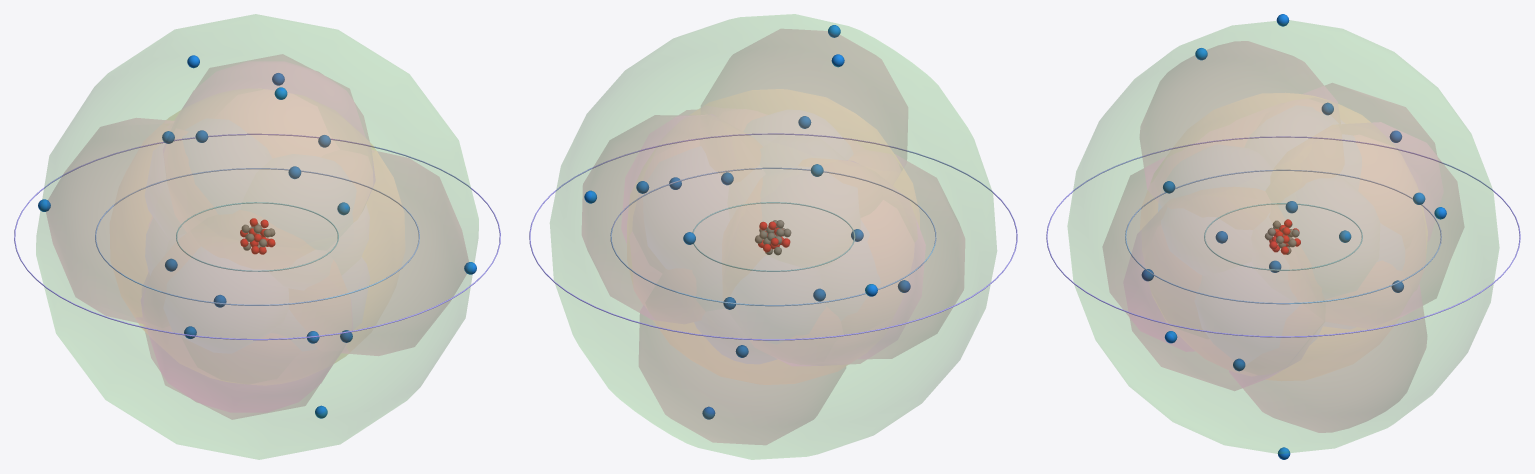
3 renders of one model, left to right at view 1: azimuth 30°, elevation 25°; view 2: azimuth 150°, elevation 25°; view 3: azimuth 270°, elevation 25°, orthographic. The views are drawn at different scales.
Parts seen in each view (by area): view 1: Orbital_3s_0, Orbital_3p_0, Orbital_2s_0, Orbital_3p_1, Orbital_3p_2, Nivel_n3, Nivel_n2, Nivel_n1; view 2: Orbital_3s_0, Orbital_3p_2, Orbital_3p_1, Orbital_2s_0, Orbital_3p_0, Nivel_n3, Nivel_n2, Nivel_n1; view 3: Orbital_3s_0, Orbital_3p_2, Orbital_3p_1, Orbital_3p_0, Orbital_2s_0, Nivel_n3, Nivel_n2, Nivel_n1.
Part boxes in pixels (<box>): Orbital_3s_0: <box>36,14,478,459</box>; Orbital_3p_0: <box>46,118,468,355</box>; Orbital_2s_0: <box>110,111,404,382</box>; Orbital_3p_1: <box>141,54,352,419</box>; Orbital_3p_2: <box>146,62,374,401</box>; Nivel_n3: <box>14,133,500,340</box>; Nivel_n2: <box>95,168,419,305</box>; Nivel_n1: <box>176,202,338,271</box>; Orbital_3s_0: <box>550,14,996,459</box>; Orbital_3p_2: <box>639,29,907,444</box>; Orbital_3p_1: <box>582,115,964,358</box>; Orbital_2s_0: <box>627,89,919,384</box>; Orbital_3p_0: <box>680,110,925,365</box>; Nivel_n3: <box>529,133,1017,340</box>; Nivel_n2: <box>610,167,936,306</box>; Nivel_n1: <box>692,202,855,271</box>; Orbital_3s_0: <box>1067,20,1499,453</box>; Orbital_3p_2: <box>1140,41,1426,432</box>; Orbital_3p_1: <box>1103,122,1463,318</box>; Orbital_3p_0: <box>1124,83,1436,390</box>; Orbital_2s_0: <box>1140,93,1427,380</box>; Nivel_n3: <box>1046,136,1520,337</box>; Nivel_n2: <box>1125,169,1441,304</box>; Nivel_n1: <box>1204,203,1362,270</box>.
Size of the model in its own units: 0.9024 by 0.8262 by 0.9024.
